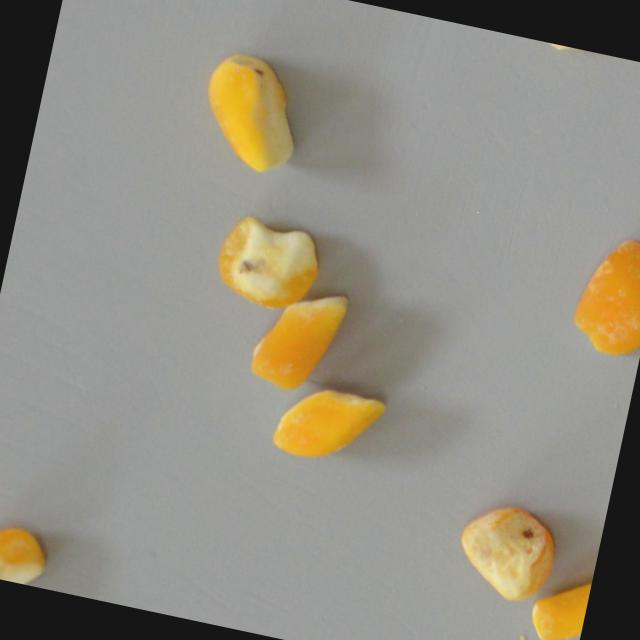dañado: (444, 490, 565, 609), (565, 223, 640, 367)
estandar: (242, 273, 353, 410), (269, 370, 390, 480)
pelicula: (523, 567, 592, 636)
punto_negro: (187, 44, 313, 180), (205, 208, 330, 319), (0, 520, 56, 588)
